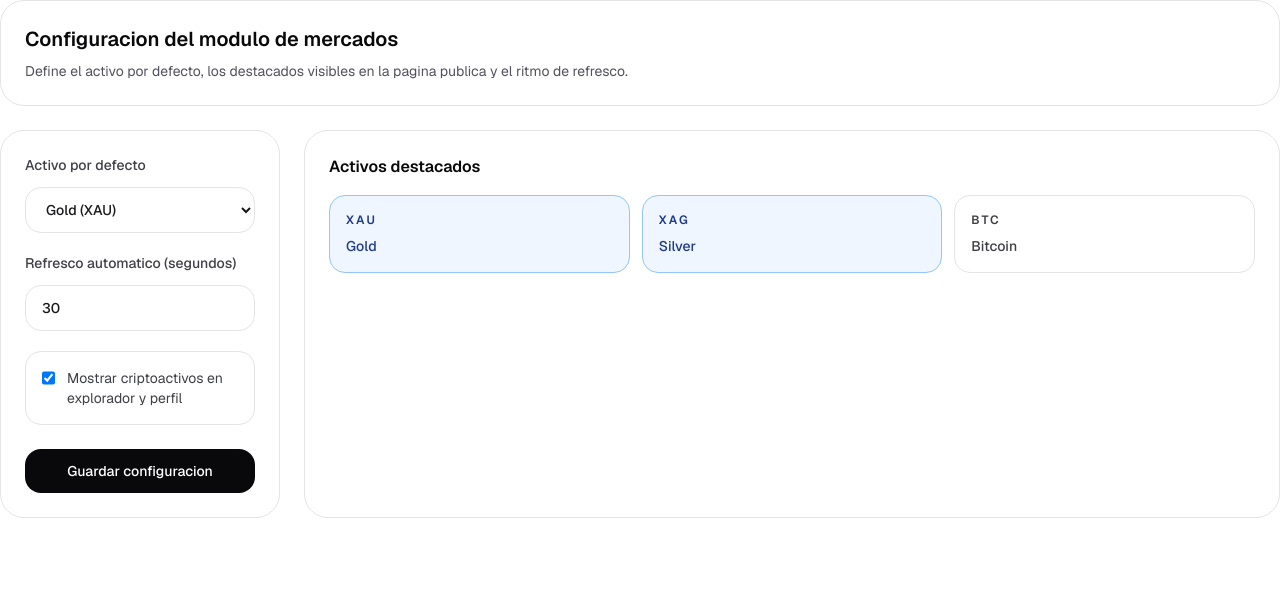
Test: MarketAdminPanel › loads settings, updates fields, toggles featured assets, and saves
The width and height of the screenshot is (1280, 605).
Expected: the heading "Configuracion del modulo de mercados" is shown, [25,26,398,52]
Select "Bitcoin (BTC)" in the dropdown labelled "Activo por defecto" at x=140, y=210, box [25,187,255,233]
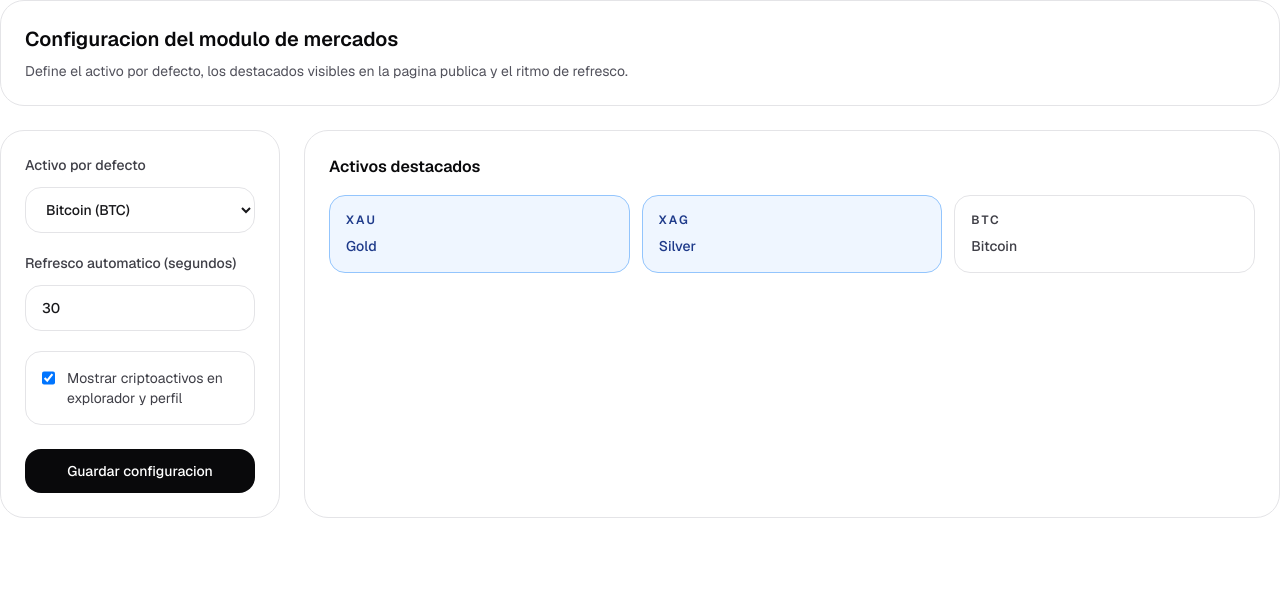
Replace the text in the number field labelled "Refresco automatico (segundos)" with "45" at x=140, y=308, box [25,285,255,331]
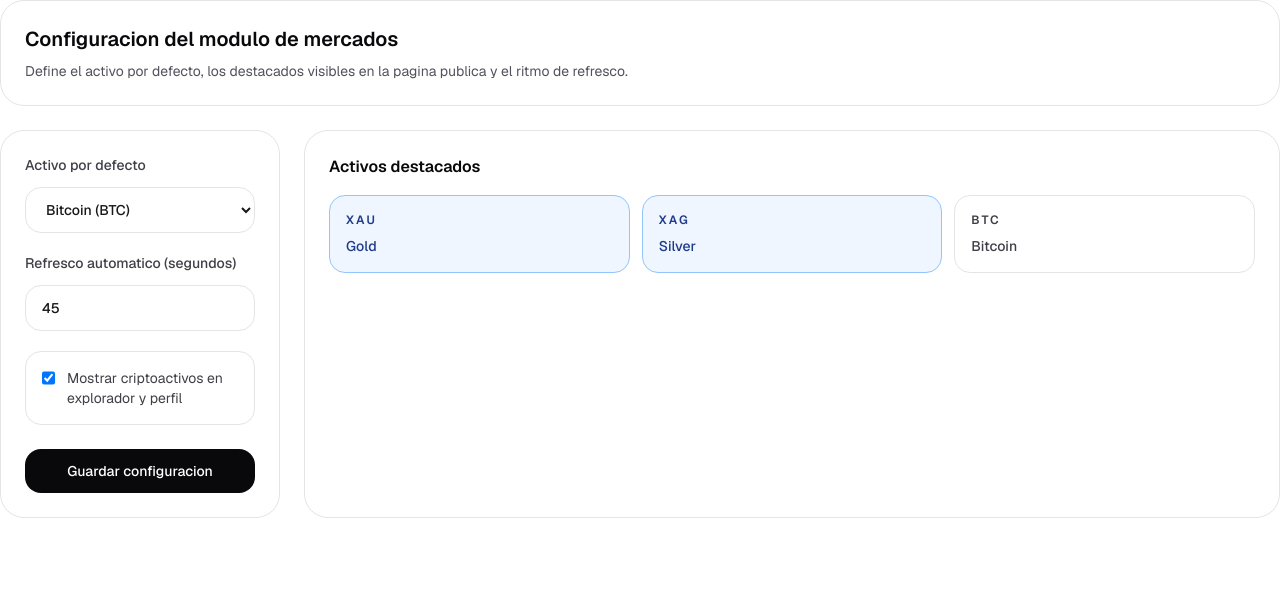
Click the checkbox labelled "Mostrar criptoactivos en explorador y perfil" at x=48, y=378, box [42,370,55,386]
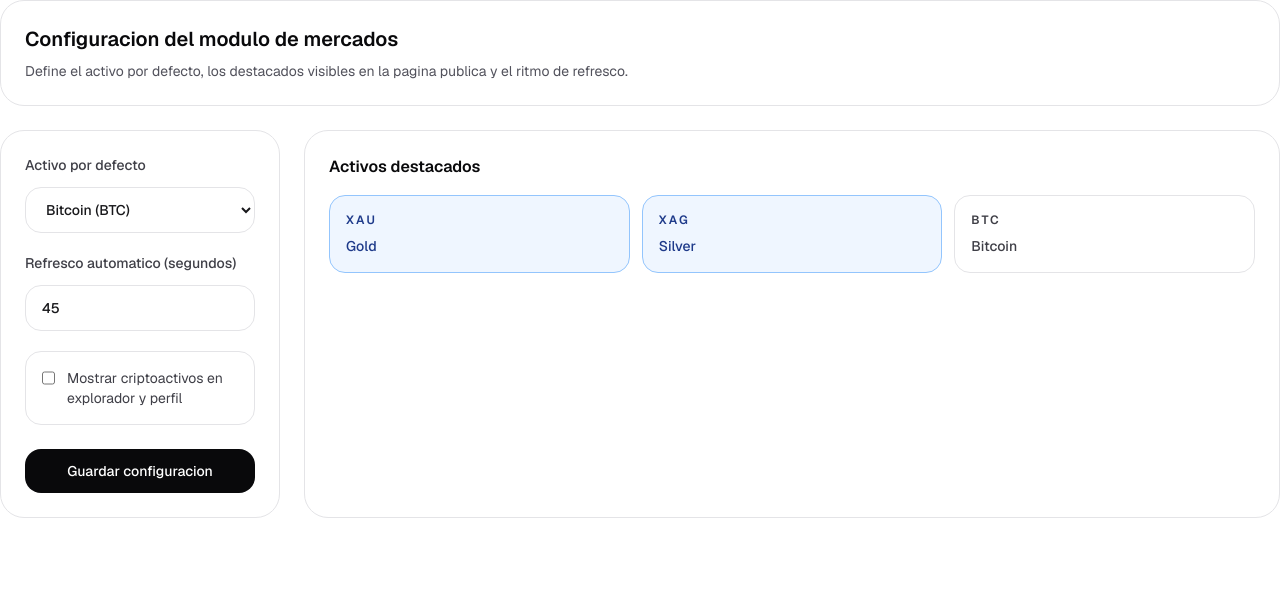
Click the button "BTC Bitcoin" at x=994, y=246, box [954,195,1255,273]
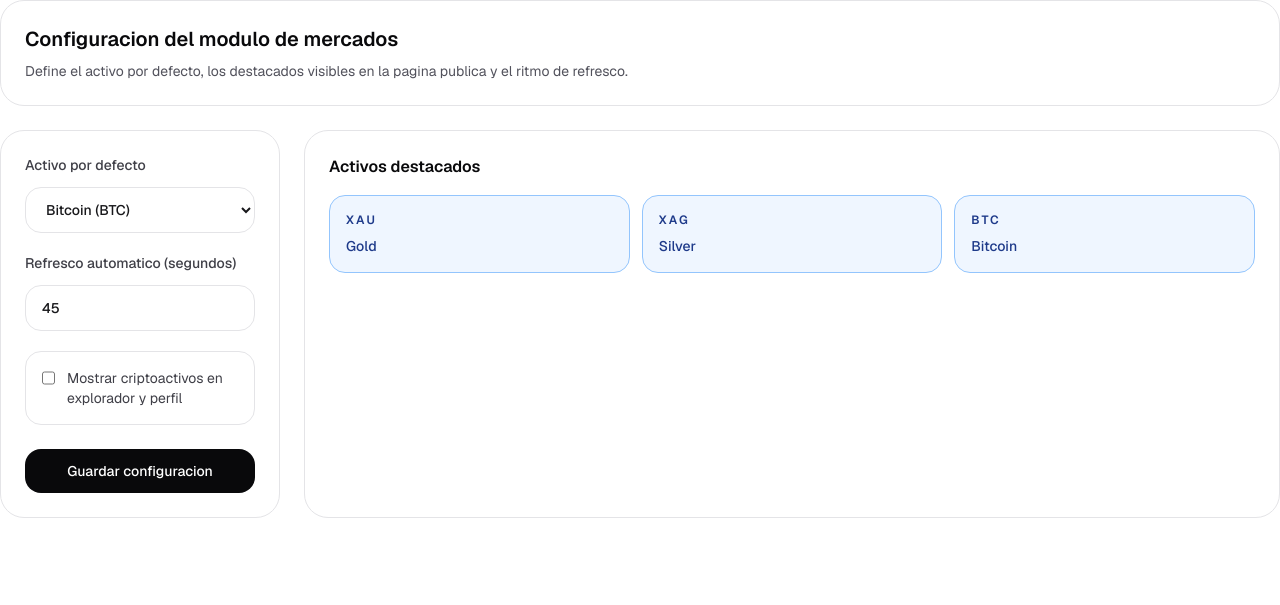
Click the button "Guardar configuracion" at x=140, y=471, box [25,449,255,493]
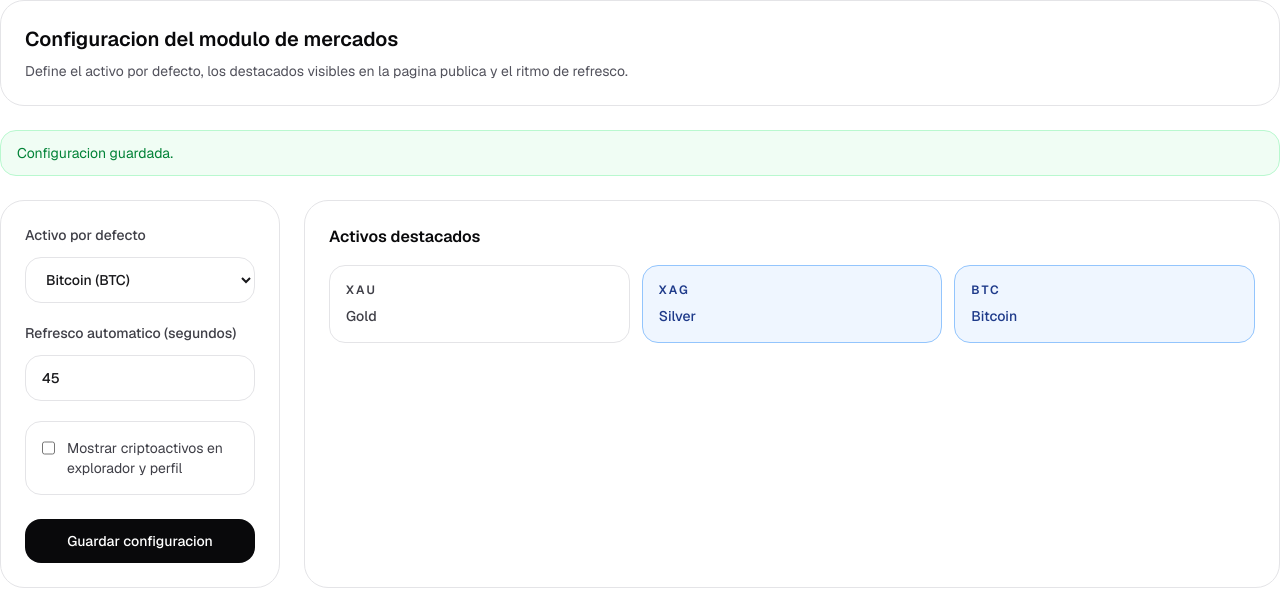
Now the text "Configuracion guardada." is shown, box [0,130,1279,176]
